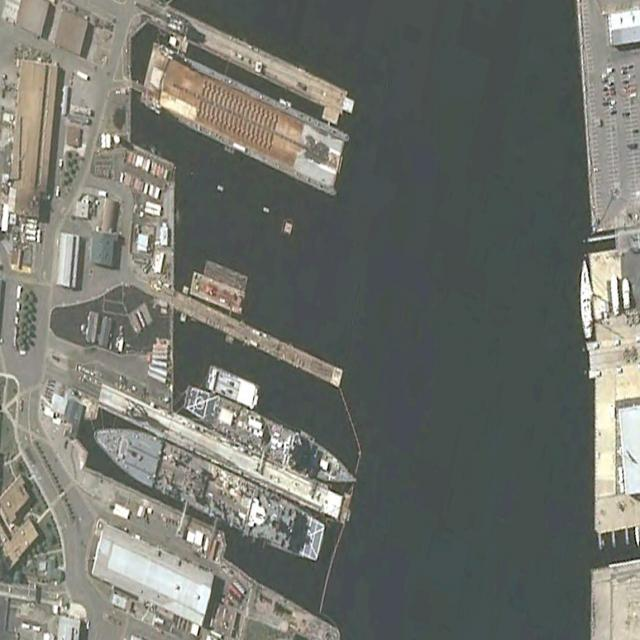Commander: (87, 409, 328, 566)
Destroyer: (179, 380, 362, 497)
